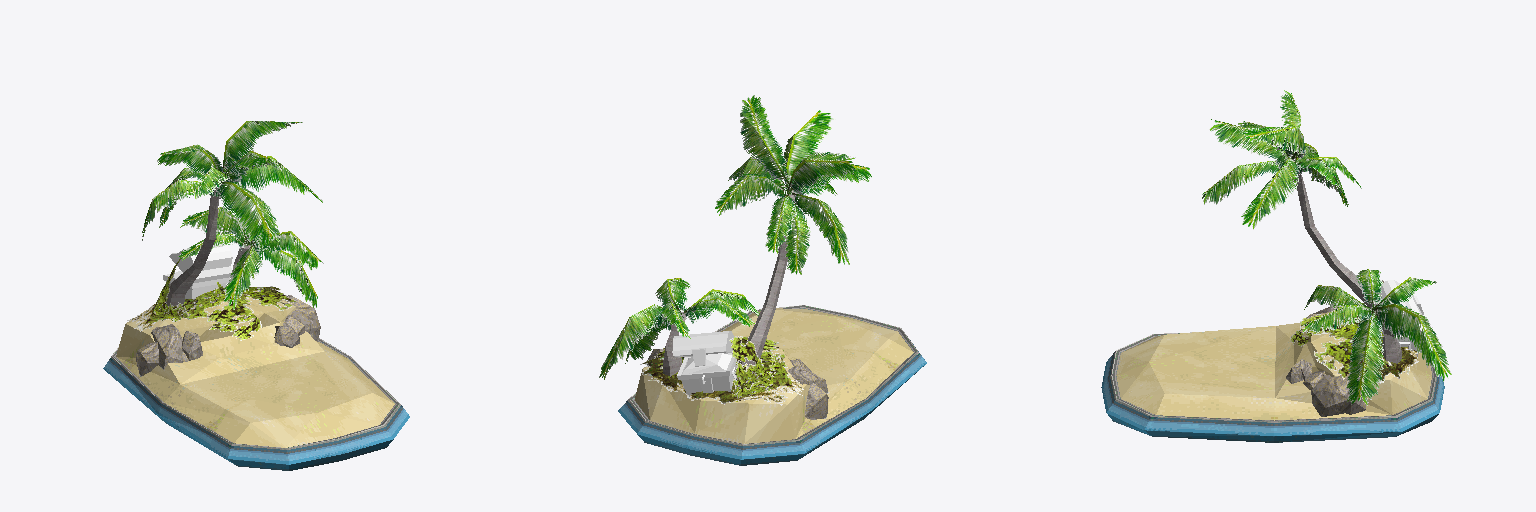
3 renders of one model, left to right at view 1: azimuth 30°, elevation 25°; view 2: azimuth 150°, elevation 25°; view 3: azimuth 270°, elevation 25°, orthographic.
Parts seen in each view (by area): view 1: Island:0, Island:1, Island:2; view 2: Island:0, Island:1, Island:2; view 3: Island:0, Island:1, Island:2.
Part boxes in pixels (x1,y1,x2,y2): Island:0: (116,184,394,447); Island:1: (103,121,409,470); Island:2: (163,244,232,298); Island:0: (635,191,913,443); Island:1: (599,95,926,465); Island:2: (672,331,736,398); Island:0: (1116,170,1431,420); Island:1: (1101,90,1451,442); Island:2: (1374,280,1423,356).
Bounding box in the file's own units: 6.12 × 8.13 × 9.24.
Materials: 3 (1 with a texture image).